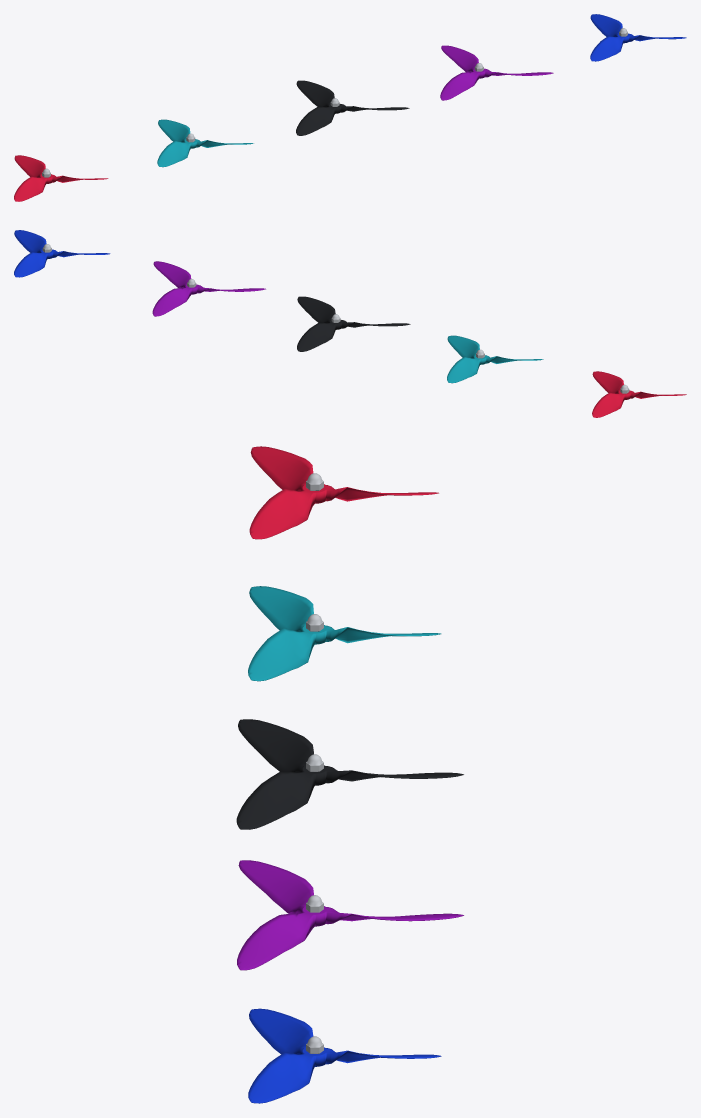
The model's file is Propellers_Row2_Set.fbx.
3 views of the same model, one above another, from view 1: azimuth 30°, elevation 25°; view 2: azimuth 150°, elevation 25°; view 3: azimuth 270°, elevation 25° (orthographic). The views are drawn at different scales.
Parts seen in each view (by area): view 1: R2_PROP_DALPROP_T6040, R2_PROP_HQProp_6x35x3, R2_PROP_Gemfan_51466, R2_PROP_Azure_5140, R2_PROP_HQProp_5x45x3_V2; view 2: R2_PROP_DALPROP_T6040, R2_PROP_HQProp_6x35x3, R2_PROP_Gemfan_51466, R2_PROP_Azure_5140, R2_PROP_HQProp_5x45x3_V2; view 3: R2_PROP_DALPROP_T6040, R2_PROP_HQProp_6x35x3, R2_PROP_Gemfan_51466, R2_PROP_Azure_5140, R2_PROP_HQProp_5x45x3_V2.
Boxes of the visible parts, x1,y1,x2,y2 form: R2_PROP_DALPROP_T6040: (296,80,409,135); R2_PROP_HQProp_6x35x3: (440,45,553,100); R2_PROP_Gemfan_51466: (157,119,253,167); R2_PROP_Azure_5140: (590,14,686,61); R2_PROP_HQProp_5x45x3_V2: (14,155,108,201); R2_PROP_DALPROP_T6040: (297,296,410,351); R2_PROP_HQProp_6x35x3: (152,261,265,316); R2_PROP_Gemfan_51466: (447,335,543,383); R2_PROP_Azure_5140: (14,230,110,277); R2_PROP_HQProp_5x45x3_V2: (592,371,686,417); R2_PROP_DALPROP_T6040: (236,719,463,829); R2_PROP_HQProp_6x35x3: (237,860,463,970); R2_PROP_Gemfan_51466: (248,586,441,681); R2_PROP_Azure_5140: (248,1008,441,1103); R2_PROP_HQProp_5x45x3_V2: (249,446,438,539).
Bounding box in the file's own units: 0.7911 × 0.019 × 0.1161.
Materials: 1 (1 with a texture image).
